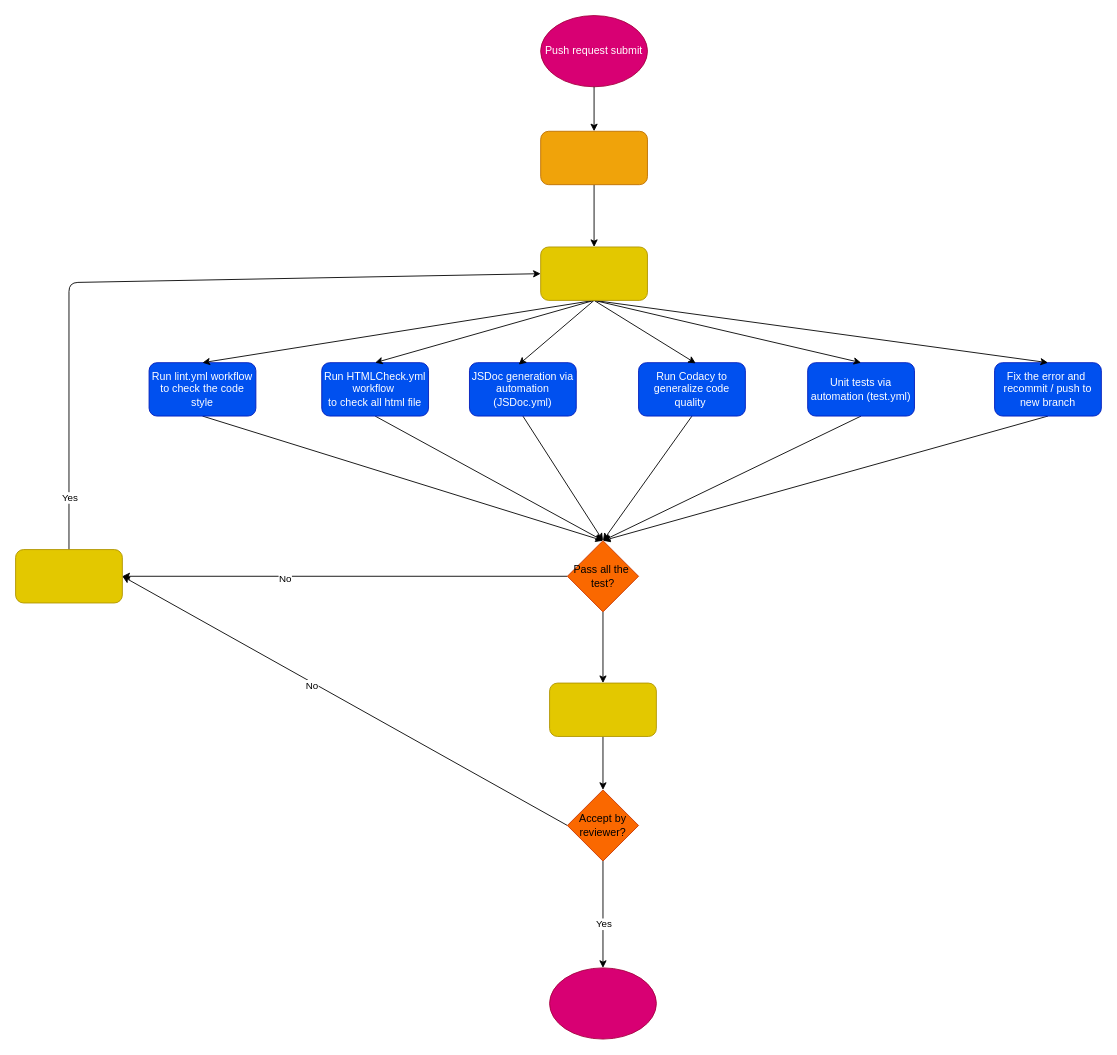
This 1117x1055 diagram has some shape labels left out. Each missing label, with the box of its shape:
All the CI/CD done merge to main: (549, 967, 656, 1039)
Create a New Branch: (540, 130, 647, 185)
Fix the error through each report and Recommit / Repush to the New Branch: (15, 549, 122, 603)
Request human review (Pull requests): (549, 682, 656, 736)
Run all GitHub pipeline action: (540, 246, 647, 300)
